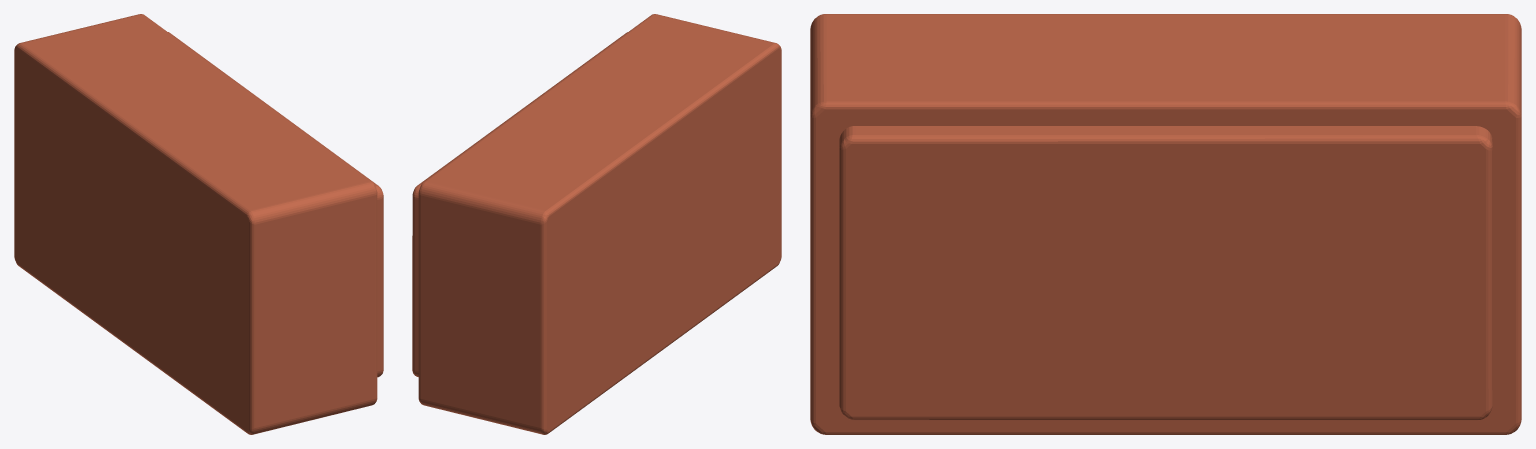
File: Item_004.fbx
3 views of the same model, side by side, from view 1: azimuth 30°, elevation 25°; view 2: azimuth 150°, elevation 25°; view 3: azimuth 270°, elevation 25° (orthographic). The views are drawn at different scales.
Visible parts, largest first — view 1: Cube.066, Cube.067; view 2: Cube.066, Cube.067; view 3: Cube.067, Cube.066.
Part boxes in pixels (left/top/right/bottom): Cube.066: left=14, top=14, right=377, bottom=434; Cube.067: left=168, top=32, right=383, bottom=377; Cube.066: left=418, top=14, right=781, bottom=434; Cube.067: left=412, top=32, right=627, bottom=376; Cube.067: left=839, top=126, right=1492, bottom=420; Cube.066: left=810, top=14, right=1521, bottom=434.
Bounding box in the file's own units: 120 × 178 × 345.
